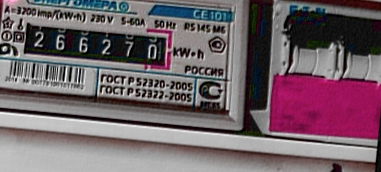0: (146, 42, 159, 60)
2: (31, 29, 46, 48), (100, 37, 113, 56)
6: (54, 32, 68, 51), (77, 35, 91, 54)
7: (123, 39, 135, 58)
screen: (13, 12, 180, 77)
